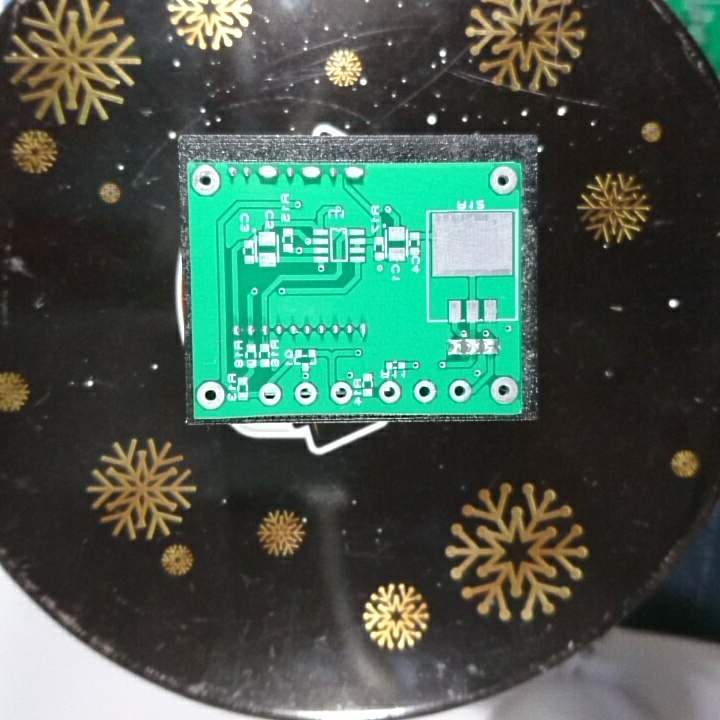F: (194, 378, 228, 414), (487, 164, 519, 200), (190, 164, 221, 197), (488, 375, 519, 406), (257, 379, 285, 409), (446, 376, 474, 405), (291, 380, 319, 408), (327, 378, 354, 407), (412, 378, 439, 407), (377, 378, 403, 407)
P: (299, 163, 325, 183), (254, 163, 281, 182), (342, 164, 367, 182)
